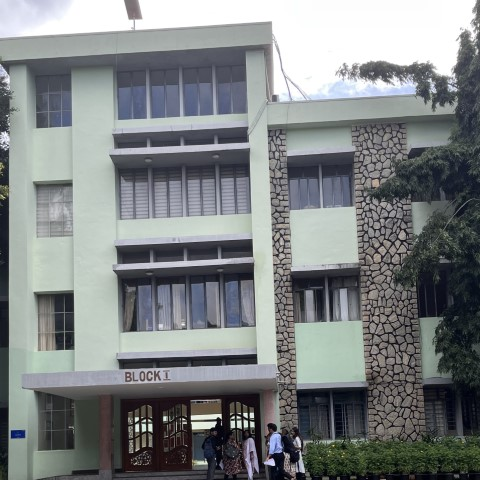Block 1: (1, 31, 428, 480)
